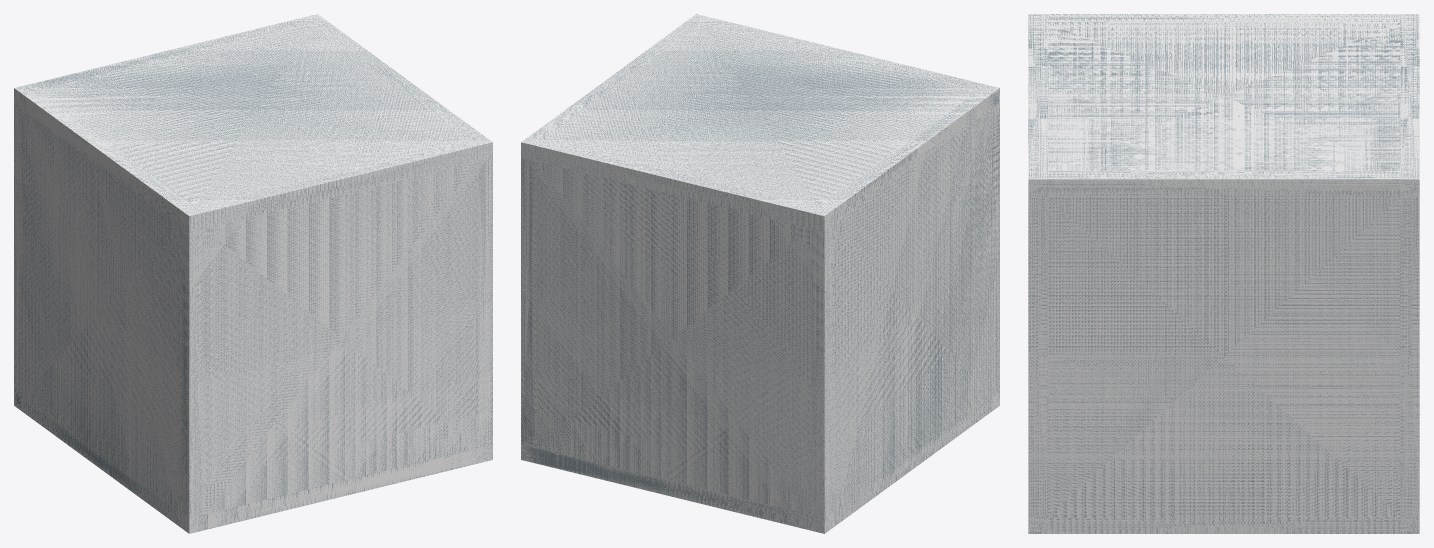
The model's file is 20210228_first level.fbx.
3 renders of one model, left to right at view 1: azimuth 30°, elevation 25°; view 2: azimuth 150°, elevation 25°; view 3: azimuth 270°, elevation 25°, orthographic. The views are drawn at different scales.
Parts seen in each view (by area): view 1: Group85, Group84, Group87, Group43, Group39, Group42, Group45, Group38, Group44, Group47, Group40, Group46; view 2: Group79, Group84, Group87, Group44, Group40, Group41, Group45, Group37, Group43, Group47, Group39, Group46; view 3: Group50, Group87, Group46, Group37, Group38, Group48, Group43, Group44, Group45.
Part boxes in pixels (box(x1,y1,x2,y2)): Group85: box(204, 161, 477, 514); Group84: box(22, 110, 180, 511); Group87: box(38, 24, 468, 206); Group43: box(180, 136, 492, 231); Group39: box(180, 226, 204, 518); Group42: box(180, 444, 492, 533); Group45: box(22, 91, 195, 225); Group38: box(478, 158, 492, 447); Group44: box(14, 14, 325, 109); Group47: box(22, 396, 180, 527); Group40: box(14, 104, 22, 395); Group46: box(312, 20, 483, 139); Group79: box(536, 161, 809, 514); Group84: box(833, 110, 991, 511); Group87: box(545, 24, 975, 206); Group44: box(521, 136, 833, 231); Group40: box(809, 226, 833, 518); Group41: box(521, 444, 833, 533); Group45: box(818, 91, 991, 225); Group37: box(521, 158, 535, 447); Group43: box(688, 14, 999, 109); Group47: box(833, 396, 991, 527); Group39: box(991, 104, 999, 395); Group46: box(530, 20, 701, 139); Group50: box(1047, 196, 1400, 516); Group87: box(1047, 22, 1400, 171); Group46: box(1047, 171, 1400, 196); Group37: box(1400, 196, 1419, 516); Group38: box(1028, 196, 1047, 516); Group48: box(1047, 516, 1400, 533); Group43: box(1028, 14, 1047, 196); Group44: box(1400, 14, 1419, 196); Group45: box(1047, 14, 1400, 21).
Bounding box in the file's own units: 12.2 × 12.2 × 12.2.
